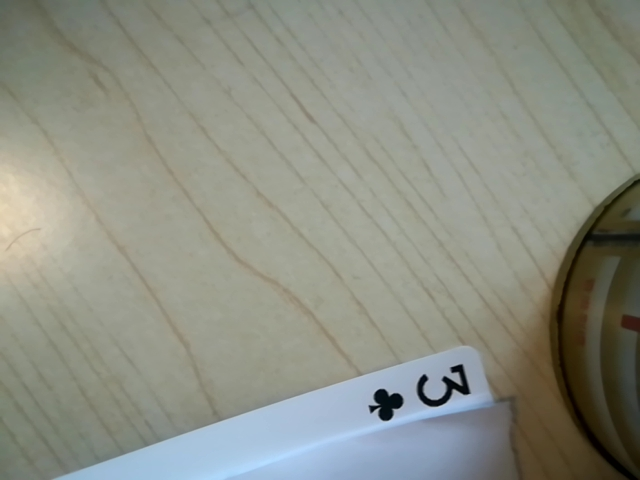mh 3: (360, 359, 487, 432)
